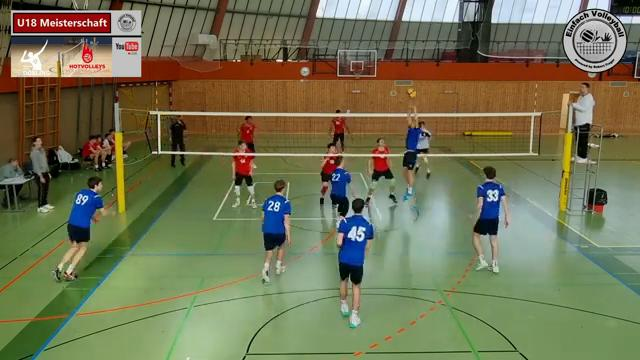alzata: (399, 99, 422, 199)
